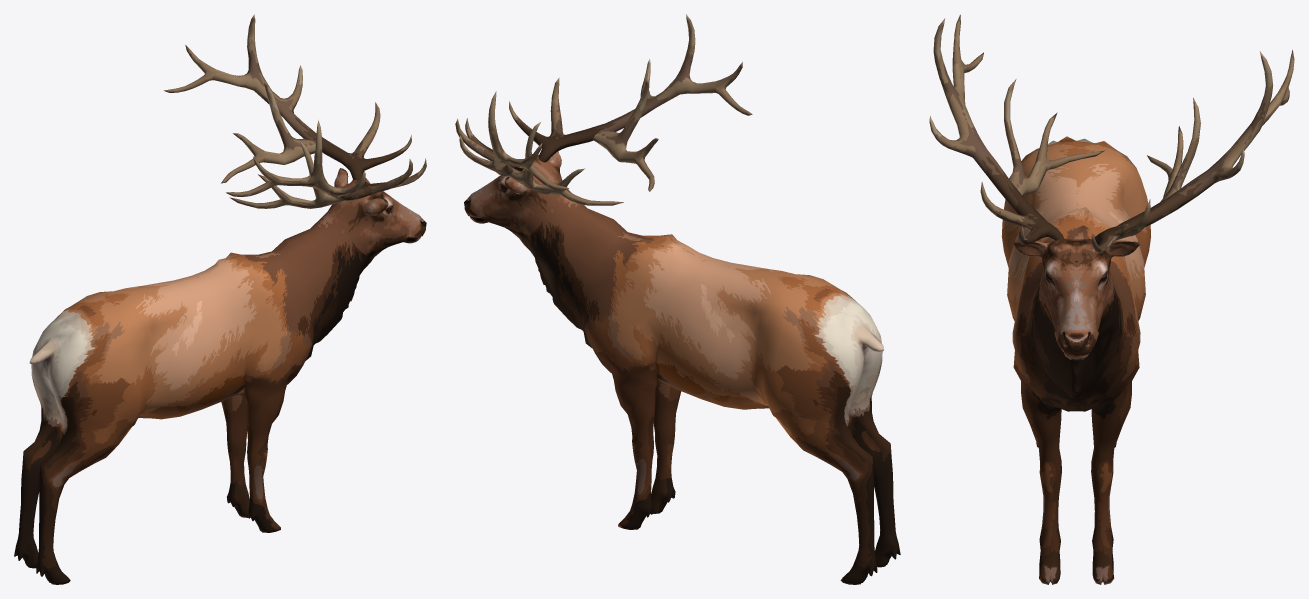
Rendered from wapiti.glb.
The picture shows the model from 3 angles, left to right: view 1: azimuth 30°, elevation 25°; view 2: azimuth 150°, elevation 25°; view 3: azimuth 270°, elevation 25°; orthographic projection. The views are drawn at different scales.
Visible parts, largest first — view 1: sm_2_0_1_Elk_Body_0, Chifre_Elk_Chifre_0, sm_2_0_1_Elk_Head_0; view 2: sm_2_0_1_Elk_Body_0, Chifre_Elk_Chifre_0, sm_2_0_1_Elk_Head_0; view 3: sm_2_0_1_Elk_Body_0, Chifre_Elk_Chifre_0, sm_2_0_1_Elk_Head_0.
Part boxes in pixels (bbox=[...]): sm_2_0_1_Elk_Body_0: bbox=[14, 218, 366, 584]; Chifre_Elk_Chifre_0: bbox=[164, 14, 426, 208]; sm_2_0_1_Elk_Head_0: bbox=[321, 168, 426, 268]; sm_2_0_1_Elk_Body_0: bbox=[527, 201, 900, 584]; Chifre_Elk_Chifre_0: bbox=[455, 14, 752, 205]; sm_2_0_1_Elk_Head_0: bbox=[464, 151, 571, 250]; sm_2_0_1_Elk_Body_0: bbox=[1001, 136, 1150, 584]; Chifre_Elk_Chifre_0: bbox=[929, 14, 1294, 252]; sm_2_0_1_Elk_Head_0: bbox=[1013, 239, 1139, 359].
Bounding box in the file's own units: 2.26 × 2.4 × 1.4.
4 materials, 4 textured.
